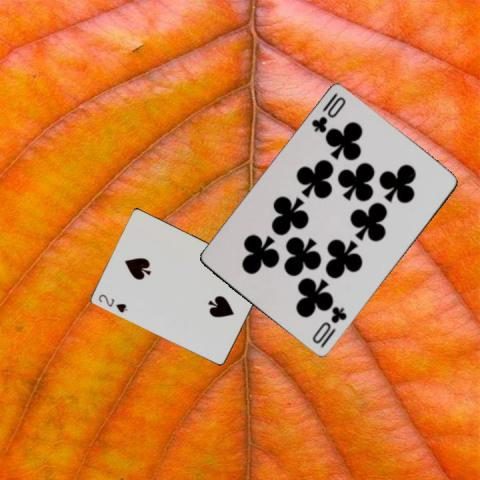10c: (309, 303, 349, 350), (309, 90, 347, 135)
2s: (95, 291, 129, 314)
